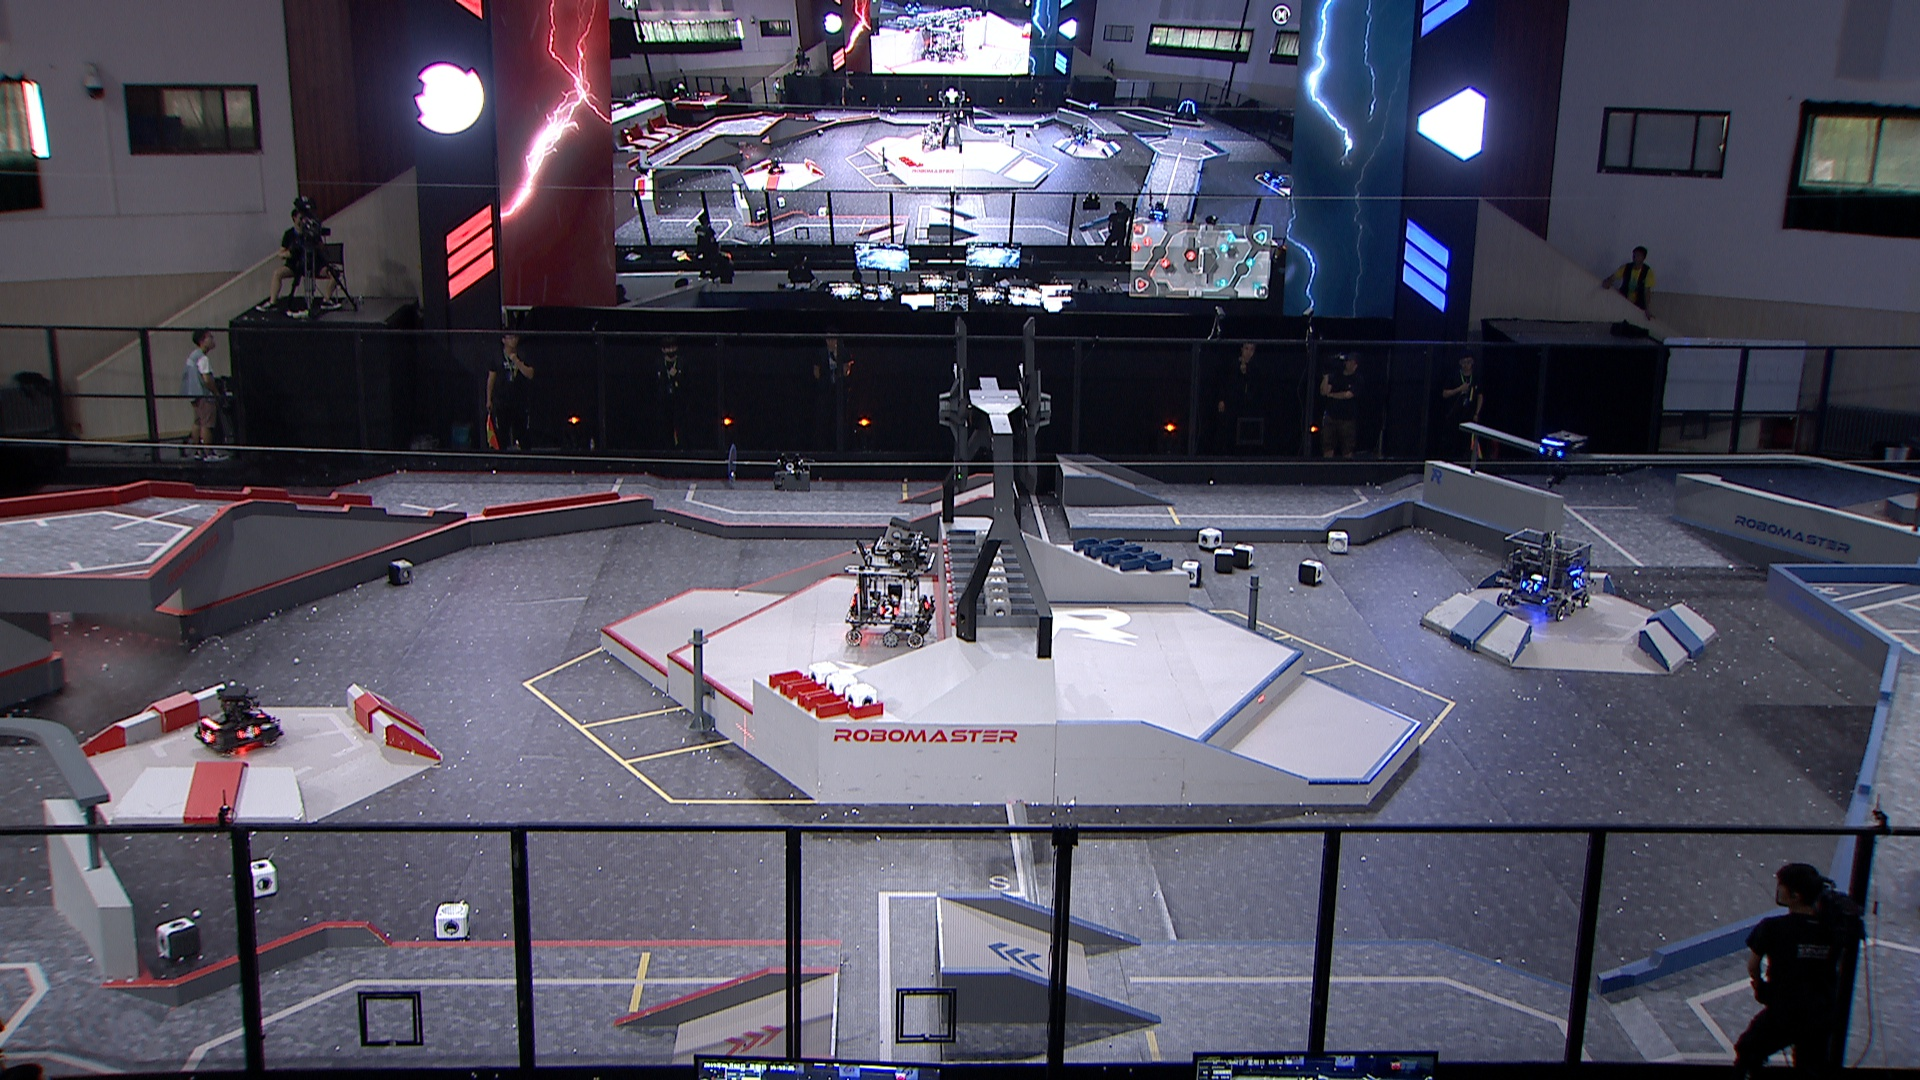armor: (235, 723, 264, 742), (1538, 442, 1567, 460), (874, 603, 902, 618), (1520, 578, 1542, 595), (196, 725, 214, 744), (245, 704, 266, 719), (1571, 574, 1586, 589)
car: (841, 533, 944, 651), (1494, 527, 1598, 624), (193, 683, 287, 760)
ignore: (1168, 98, 1200, 127), (920, 120, 945, 153), (1065, 123, 1093, 148), (1149, 199, 1172, 223), (632, 156, 655, 175), (766, 154, 785, 173)
watcher: (1534, 423, 1592, 488)
